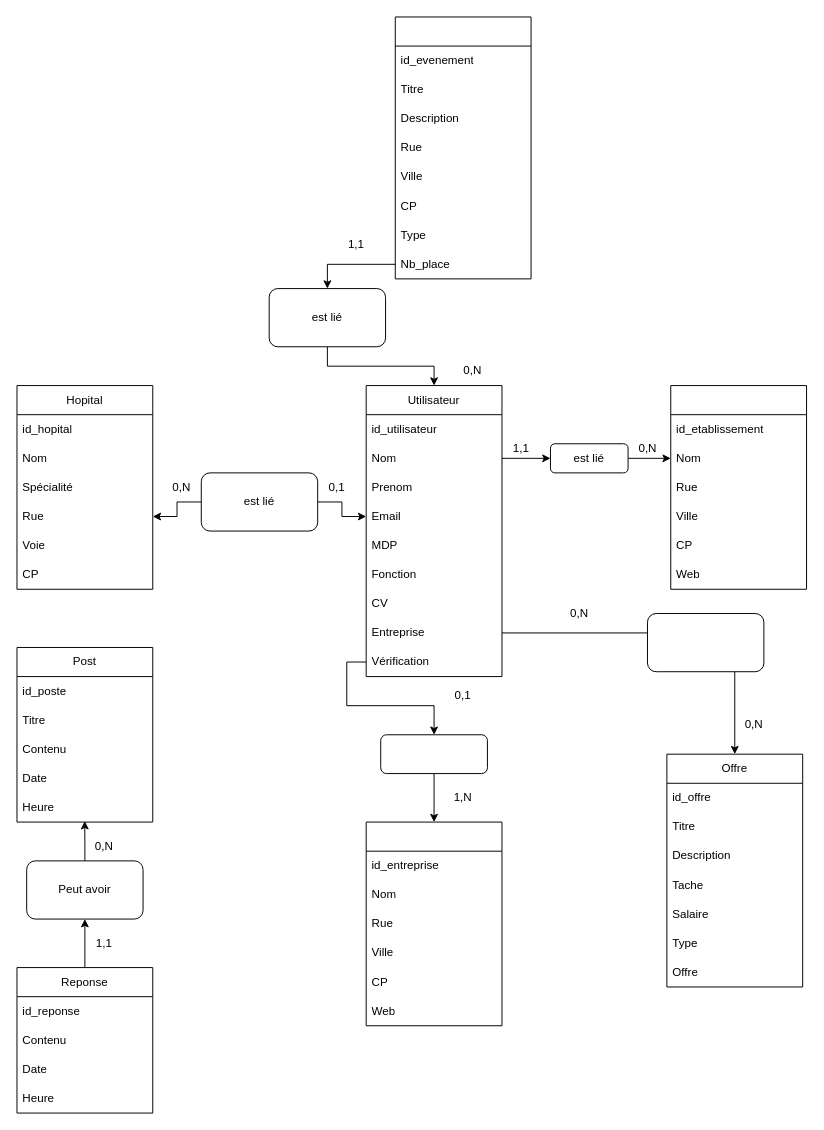
The diagram is 824 pixels wide and 1130 high, and some of its shapes have lost their labels. The shapes that lost their labels are listed below. From the top down, each one's box as (x1, y1, x2, y2) in pixels, then its label:
(394, 16, 531, 279): Fiche_evenement
(670, 385, 807, 589): Fiche-etablissement
(647, 613, 764, 672): Postule
(380, 734, 487, 774): Fait partie
(365, 821, 502, 1026): Fiche_entreprise
